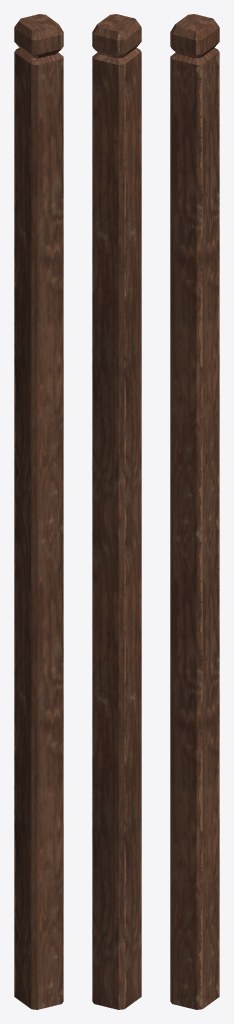
The model's file is Kit_LadderPlank_x3.obj.
The picture shows the model from 3 angles, left to right: view 1: azimuth 30°, elevation 25°; view 2: azimuth 150°, elevation 25°; view 3: azimuth 330°, elevation 25°; orthographic projection.
Visible parts, largest first — view 1: Kit_LadderPlank_x3_0; view 2: Kit_LadderPlank_x3_0; view 3: Kit_LadderPlank_x3_0.
Part boxes in pixels (x1,y1,x2,y2): Kit_LadderPlank_x3_0: [14, 14, 63, 1009]; Kit_LadderPlank_x3_0: [92, 14, 141, 1009]; Kit_LadderPlank_x3_0: [170, 14, 219, 1009].
Size of the model in its own units: 0.1892 by 5.49 by 0.2174.
Materials: 1 (1 with a texture image).
